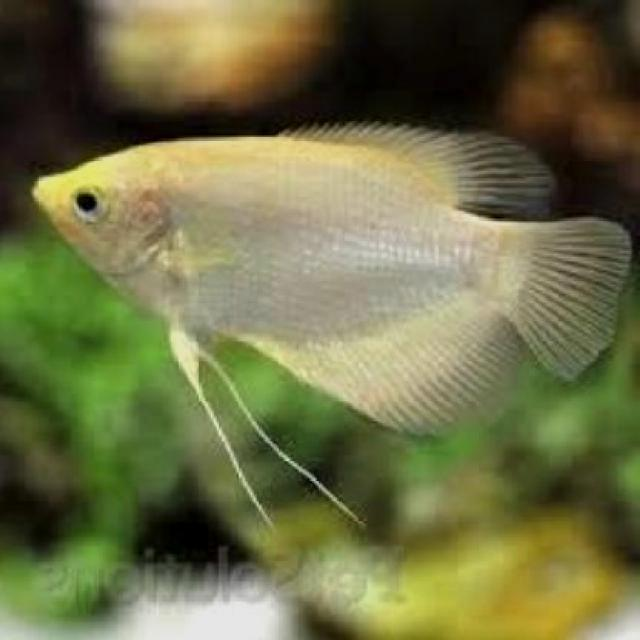gurame: (32, 127, 623, 424)
